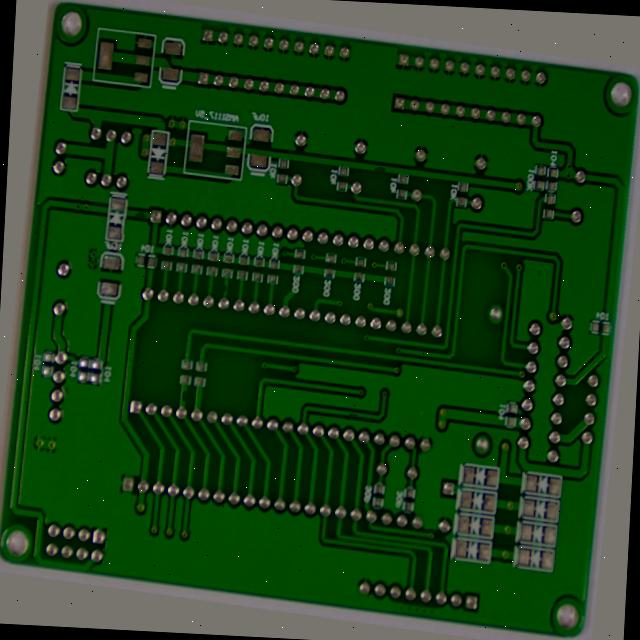mouse_bite: (172, 405, 189, 427), (115, 218, 135, 235), (364, 145, 385, 160), (352, 414, 370, 427), (213, 289, 223, 303)
